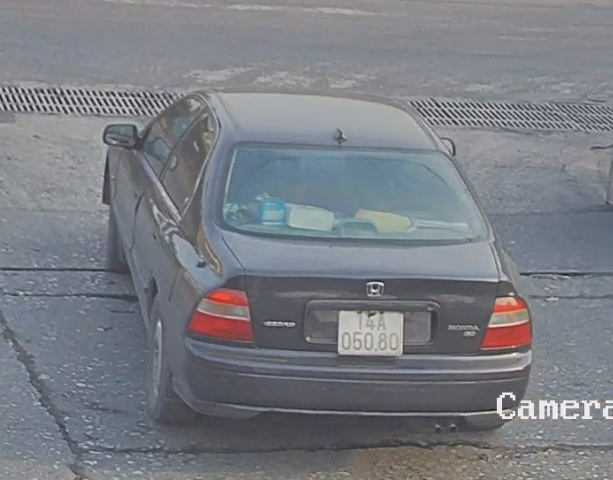vehicle plate: (334, 300, 404, 354)
